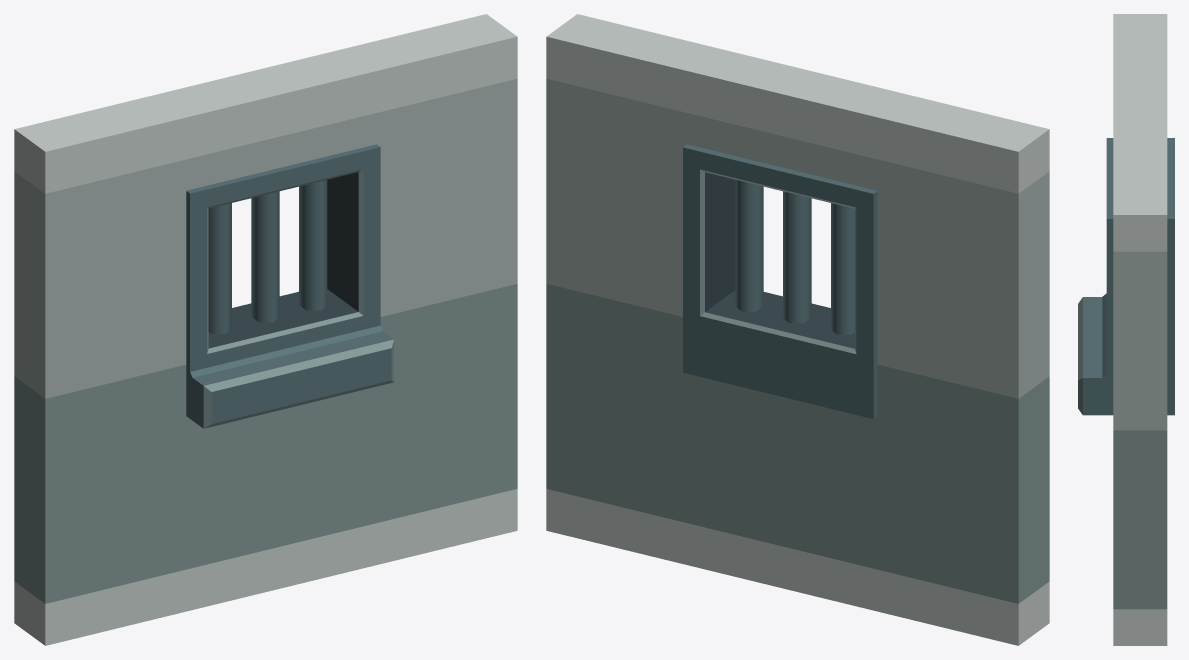
Rendered from Wall_cell_window.fbx.
3 renders of one model, left to right at view 1: azimuth 30°, elevation 25°; view 2: azimuth 150°, elevation 25°; view 3: azimuth 270°, elevation 25°, orthographic. The views are drawn at different scales.
Visible parts, largest first — view 1: Wall_cell_window; view 2: Wall_cell_window; view 3: Wall_cell_window.
Part boxes in pixels (x1,y1,x2,y2): Wall_cell_window: (14, 14, 517, 645); Wall_cell_window: (546, 14, 1049, 645); Wall_cell_window: (1078, 14, 1174, 645).
Bounding box in the file's own units: 200 × 200 × 40.73.
